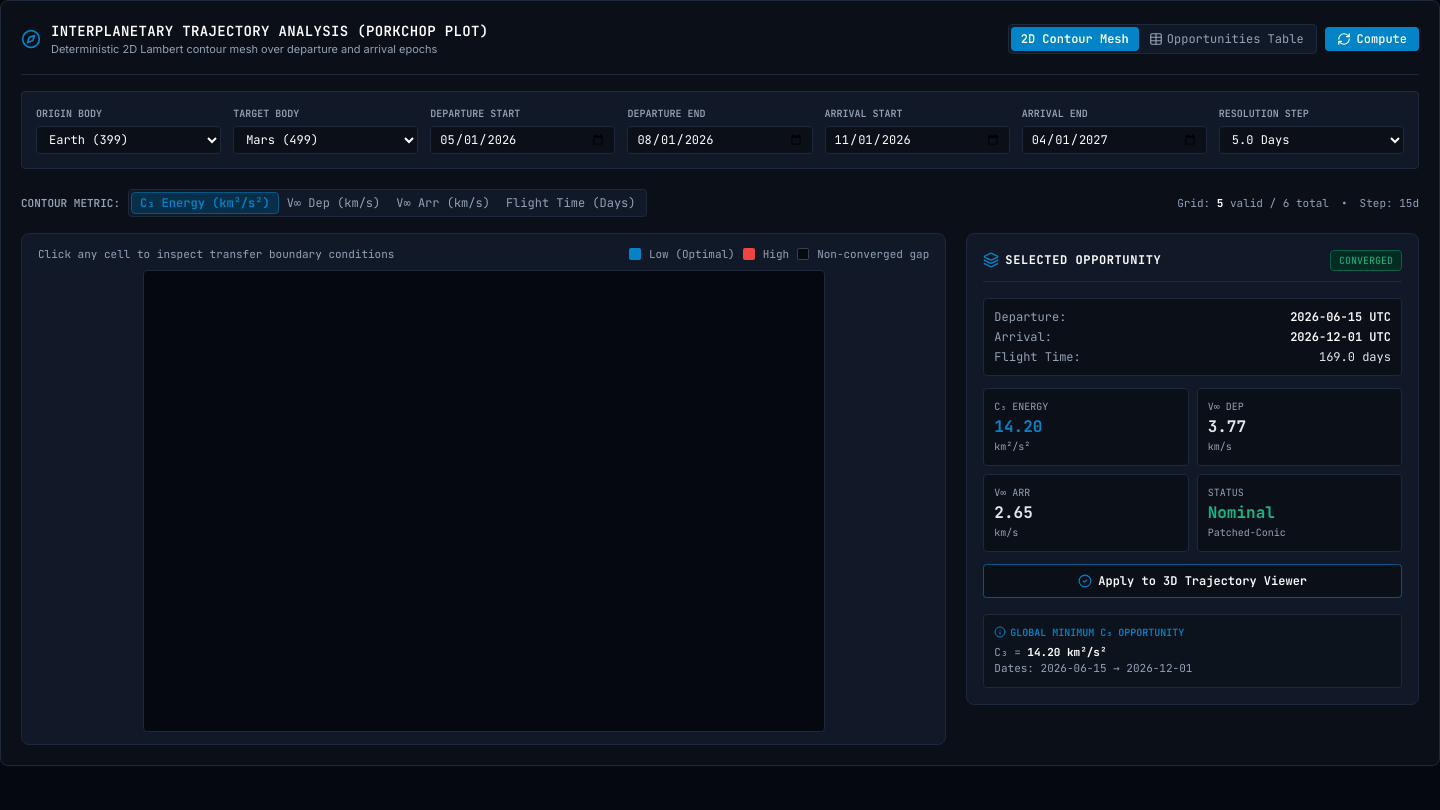
PorkchopPlot Component (Astrodynamics Lab) › catches and displays validation errors when origin and target bodies are identical
Check: the button "Compute" is shown, box [1325,27,1419,51]
Select "Earth (399)" in the dropdown labelled "Target Body": (326, 140) [233,126,418,154]
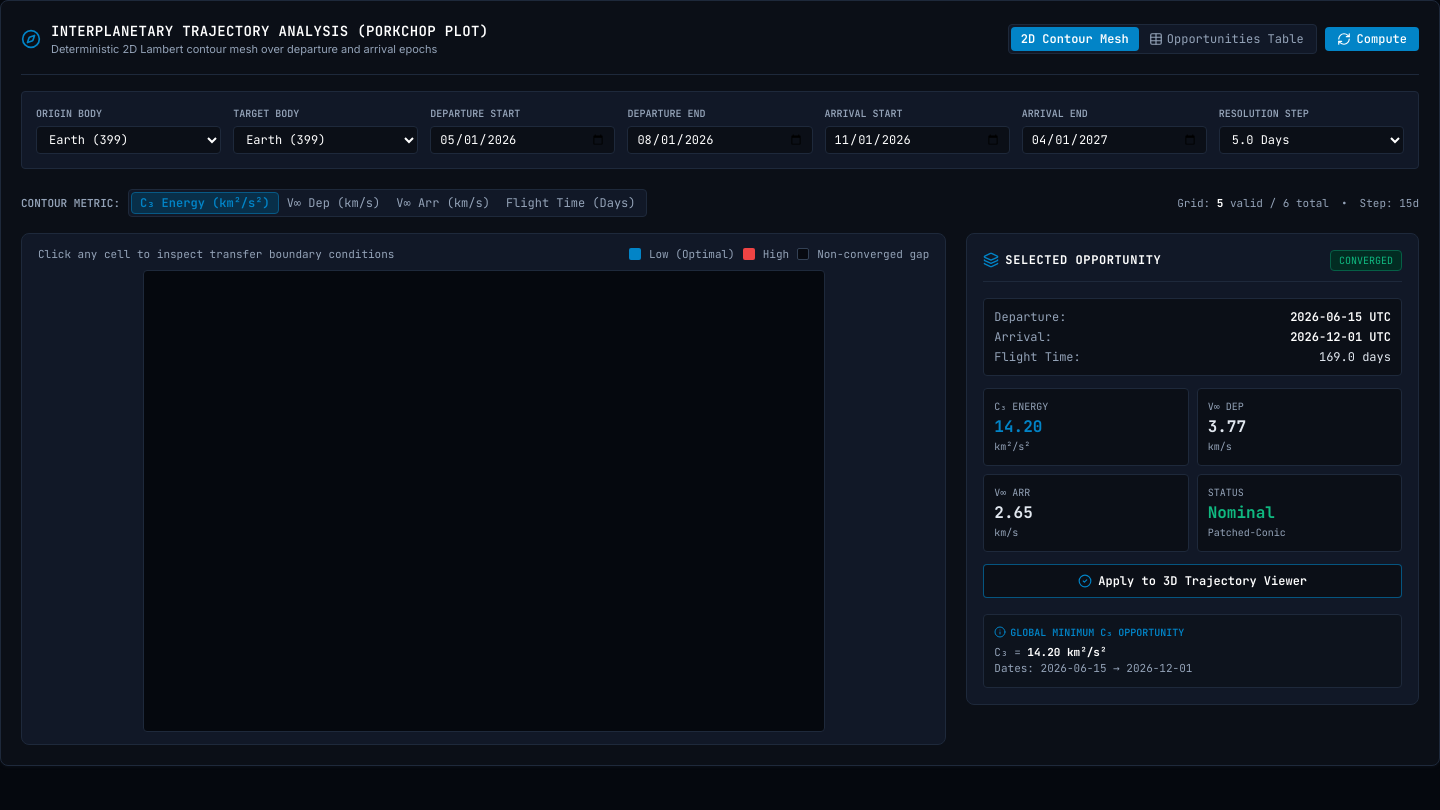
Click the button "Compute": (1372, 39) [1325,27,1419,51]
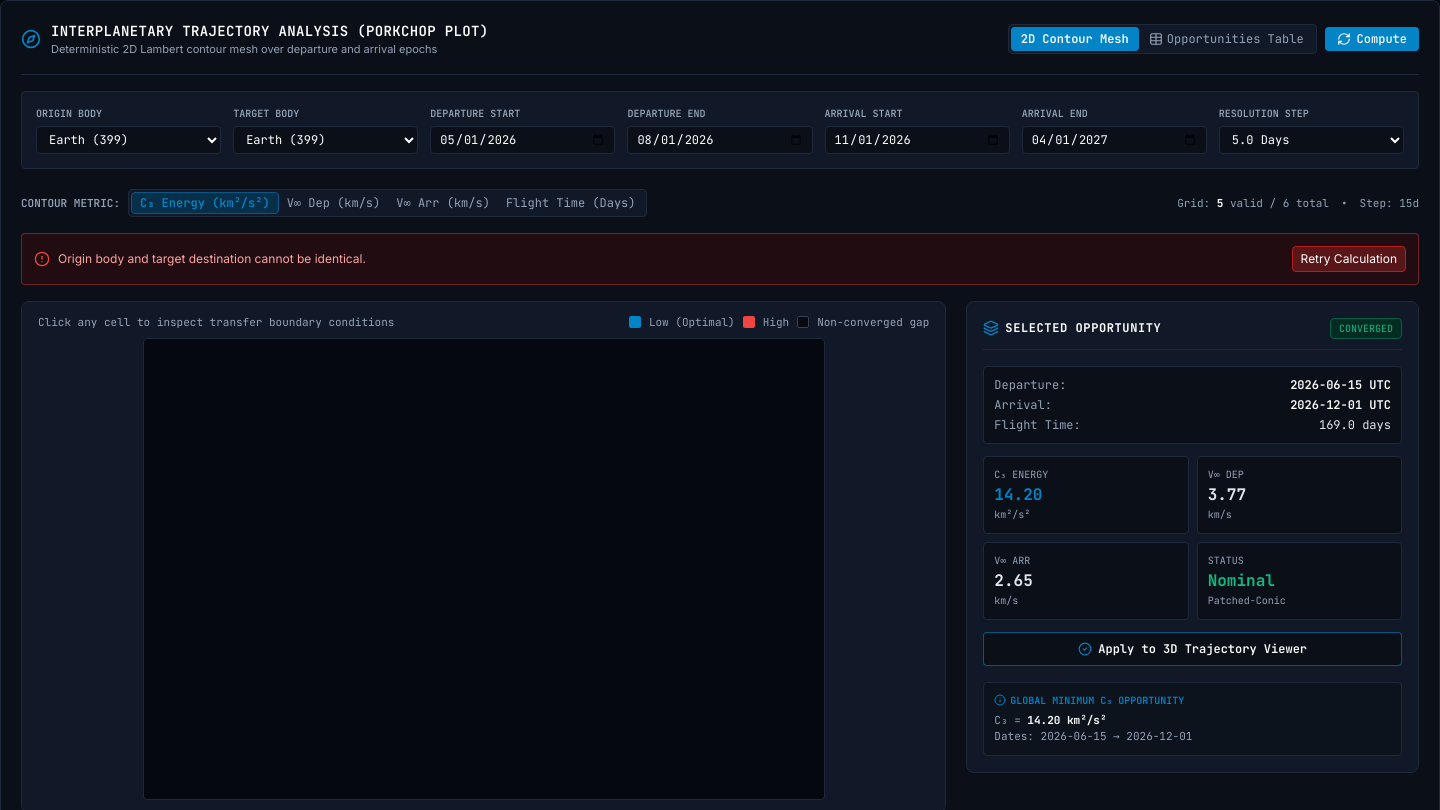
Check: the text "Origin body and target destination cannot be identical." is shown, box [58,250,366,266]
